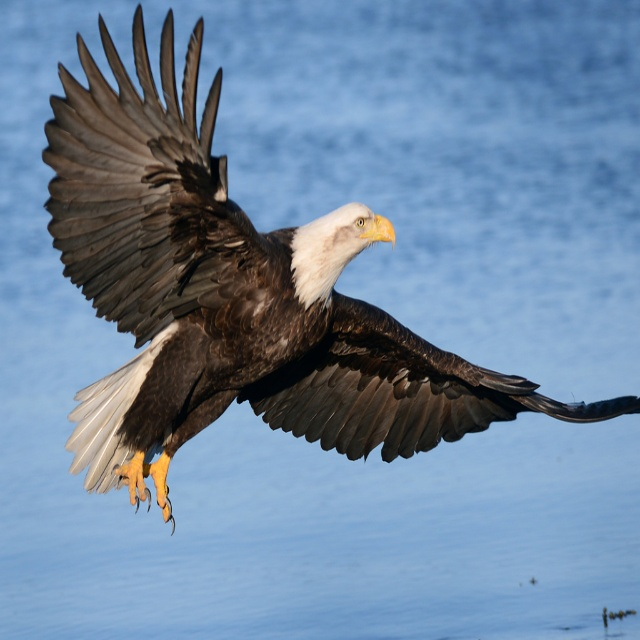Eagle: (42, 1, 640, 536)
